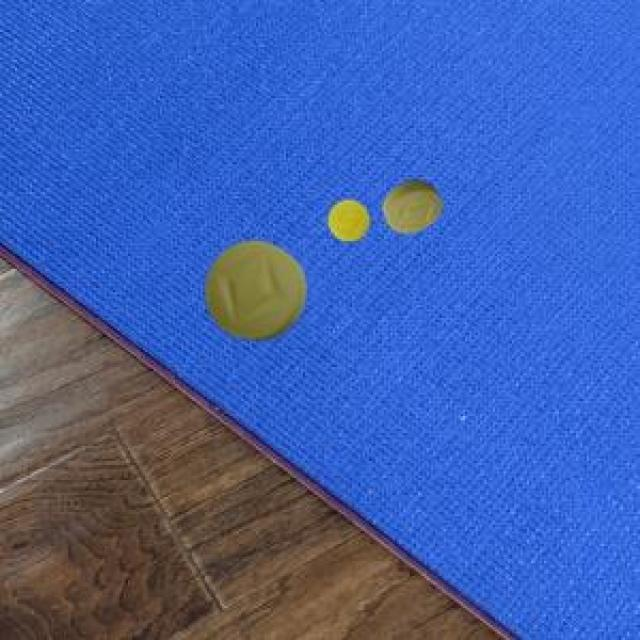Decolgen: (198, 231, 315, 354), (379, 173, 456, 241), (317, 192, 375, 251)
